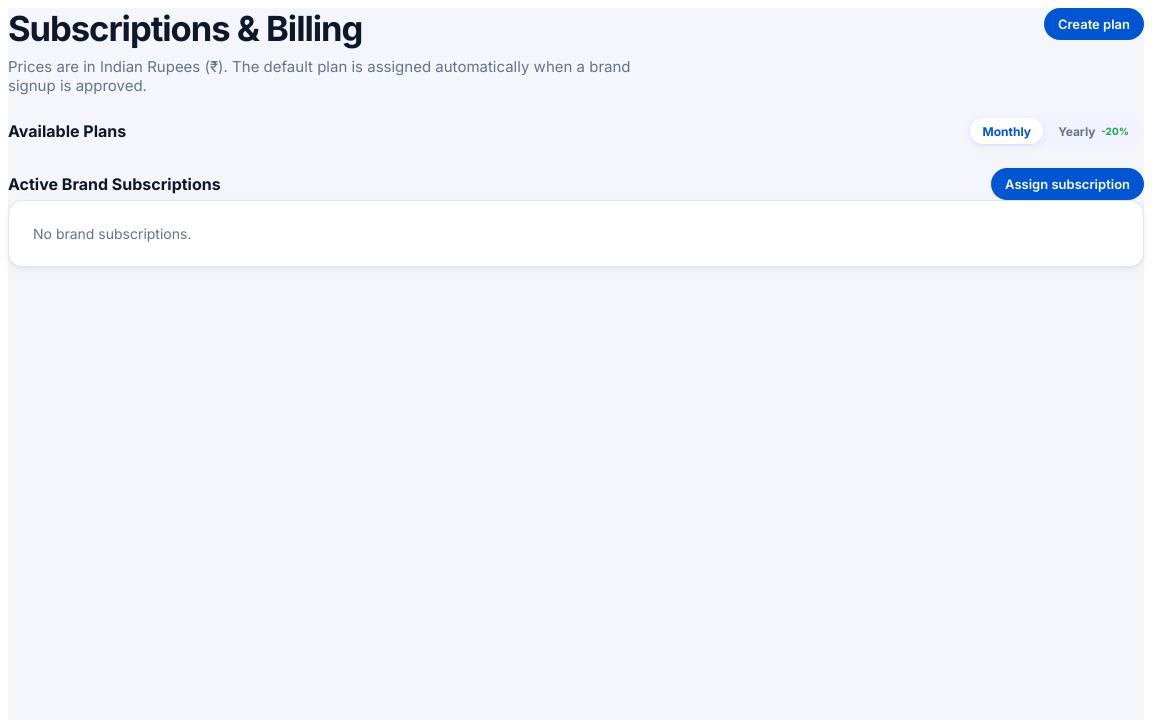
Test: SubscriptionsPage › regression_create_plan_scrolls_to_form_with_footer_actions
Click the button "Create plan". click: (1094, 24)
box: x1=1044 y1=8 x2=1144 y2=40
(page scrolled)
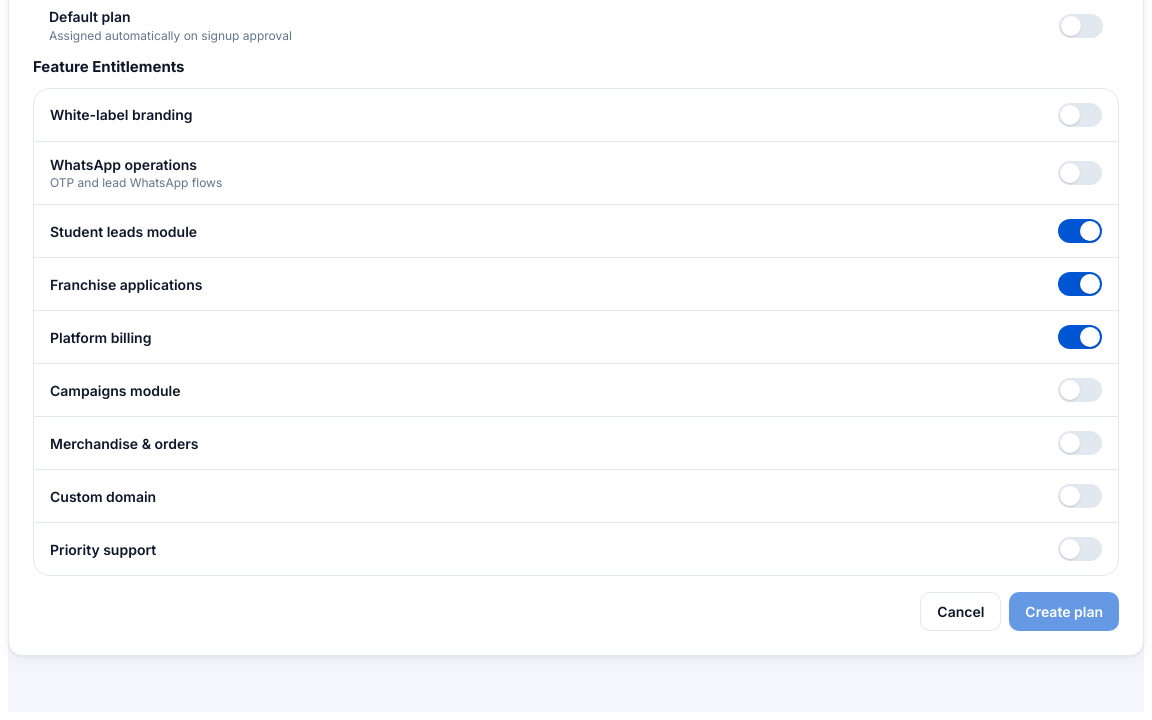
Expected: the button "Cancel" is shown, x1=920 y1=592 x2=1001 y2=631
